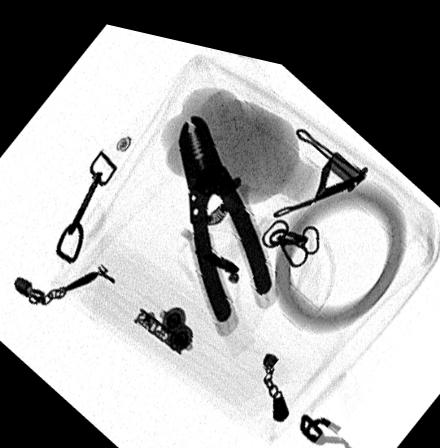Pliers: (175, 104, 271, 317)
